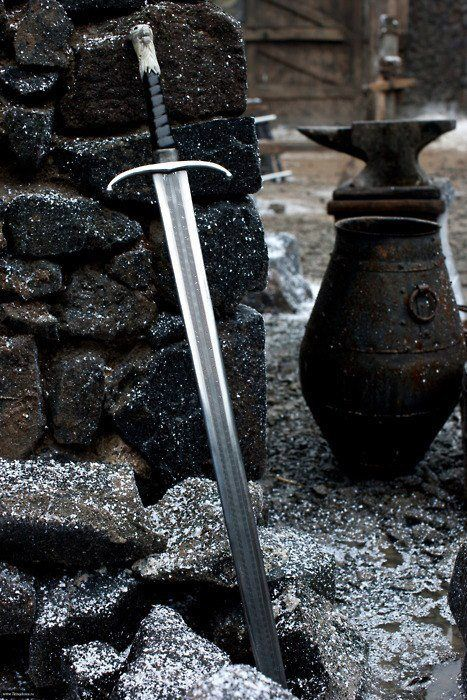knife: (104, 17, 288, 688)
